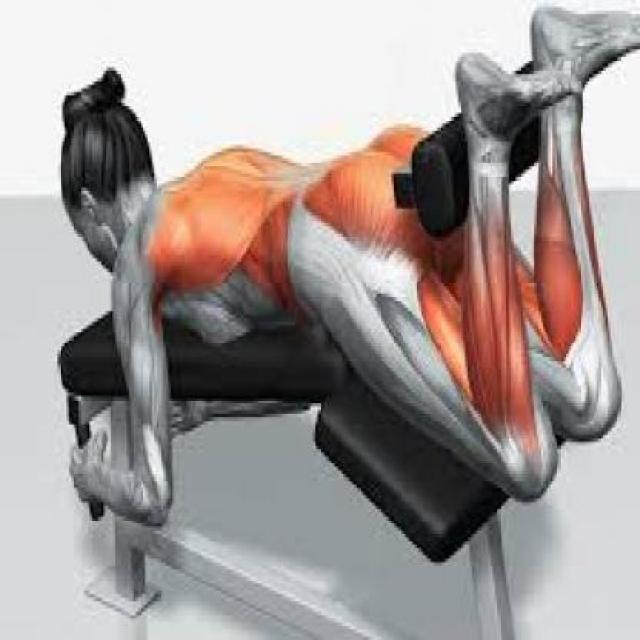reg curl machine: (20, 7, 640, 638)
